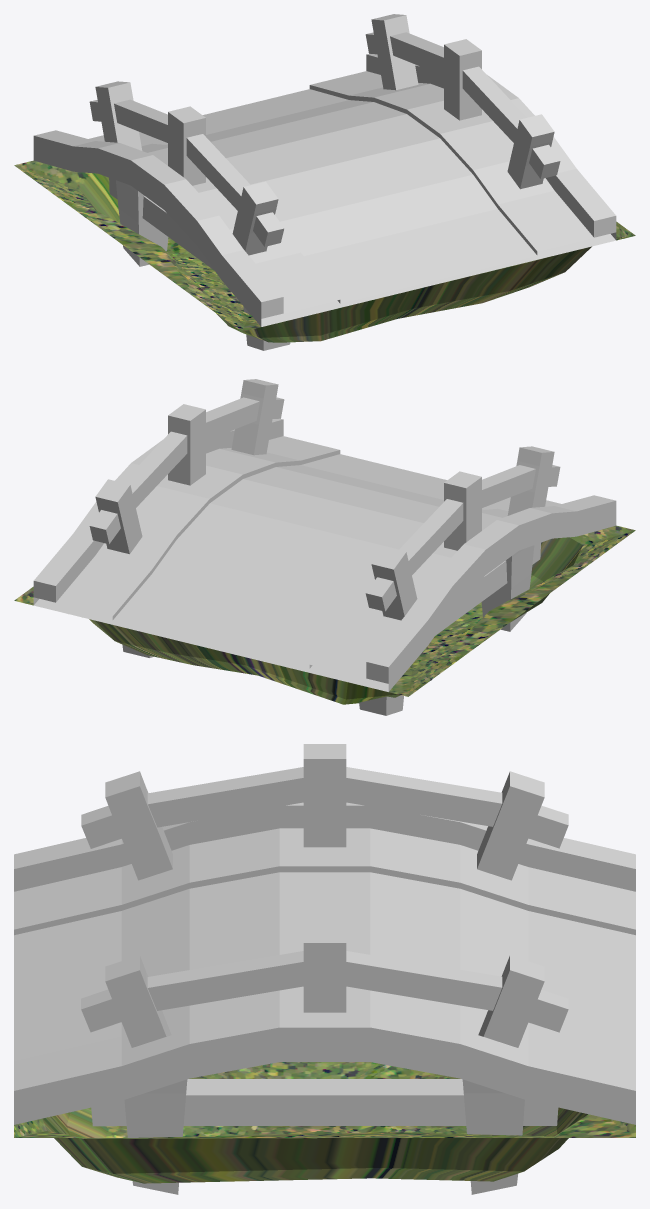
Rendered from Mesh_BridgeTile1x1.fbx.
3 views of the same model, one above another, from view 1: azimuth 30°, elevation 25°; view 2: azimuth 150°, elevation 25°; view 3: azimuth 270°, elevation 25° (orthographic). The views are drawn at different scales.
Parts seen in each view (by area): view 1: BridgeTile1x1; view 2: BridgeTile1x1; view 3: BridgeTile1x1.
Part boxes in pixels (x1,y1,x2,y2): BridgeTile1x1: [14, 14, 635, 350]; BridgeTile1x1: [14, 379, 635, 715]; BridgeTile1x1: [14, 744, 635, 1194].
Bounding box in the file's own units: 10000 × 4801 × 10000.
